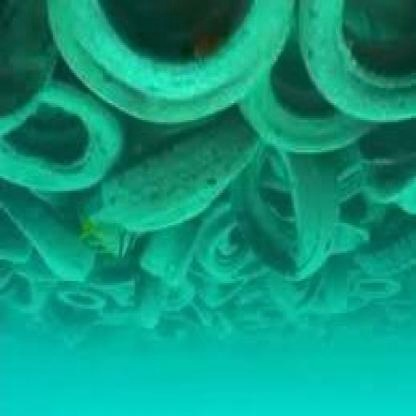tire: (63, 2, 289, 118), (90, 135, 246, 279), (202, 116, 328, 281), (254, 28, 379, 169), (1, 75, 127, 195), (289, 2, 415, 122)
